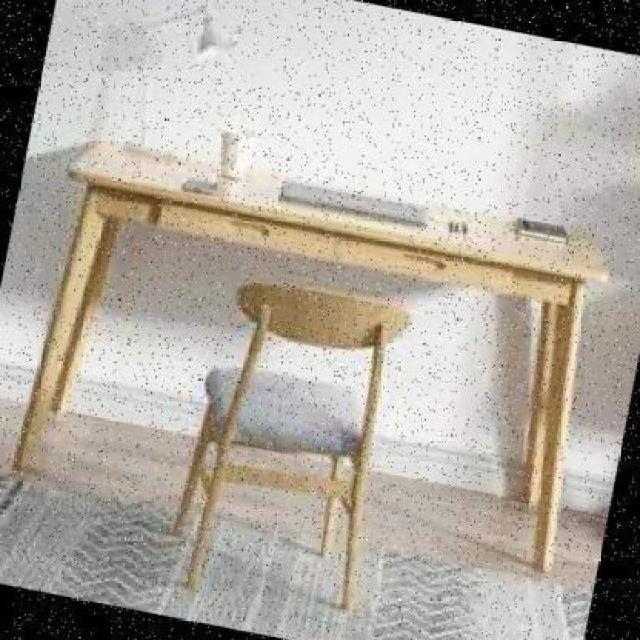tables: (9, 137, 609, 572)
